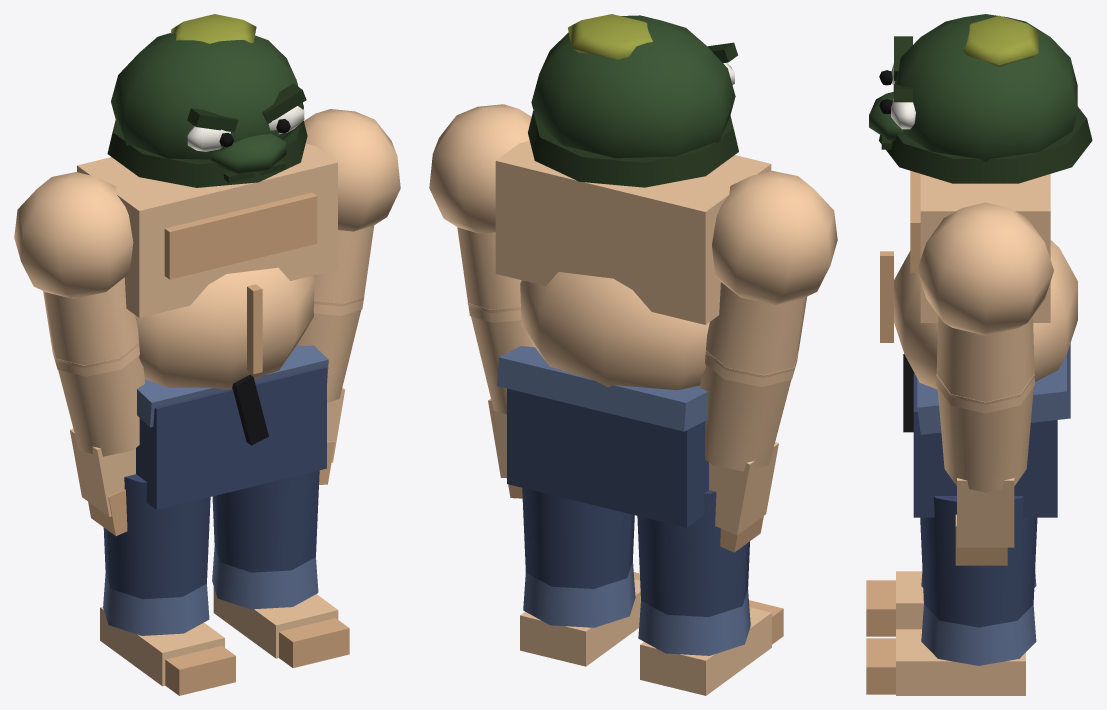
File: shelf-buddies-pond-scum-v1.glb
The picture shows the model from 3 angles, left to right: view 1: azimuth 30°, elevation 25°; view 2: azimuth 150°, elevation 25°; view 3: azimuth 270°, elevation 25°; orthographic projection. The views are drawn at different scales.
Visible parts, largest first — view 1: Shelf Buddies: Pond Scum; view 2: Shelf Buddies: Pond Scum; view 3: Shelf Buddies: Pond Scum.
Part boxes in pixels (x1,y1,x2,y2): Shelf Buddies: Pond Scum: (14,14,400,695); Shelf Buddies: Pond Scum: (429,14,837,695); Shelf Buddies: Pond Scum: (866,14,1092,695).
Size of the model in its own units: 2.69 by 4.16 by 1.35.
